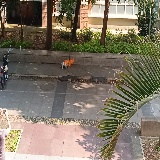fire: (64, 58, 75, 67)
